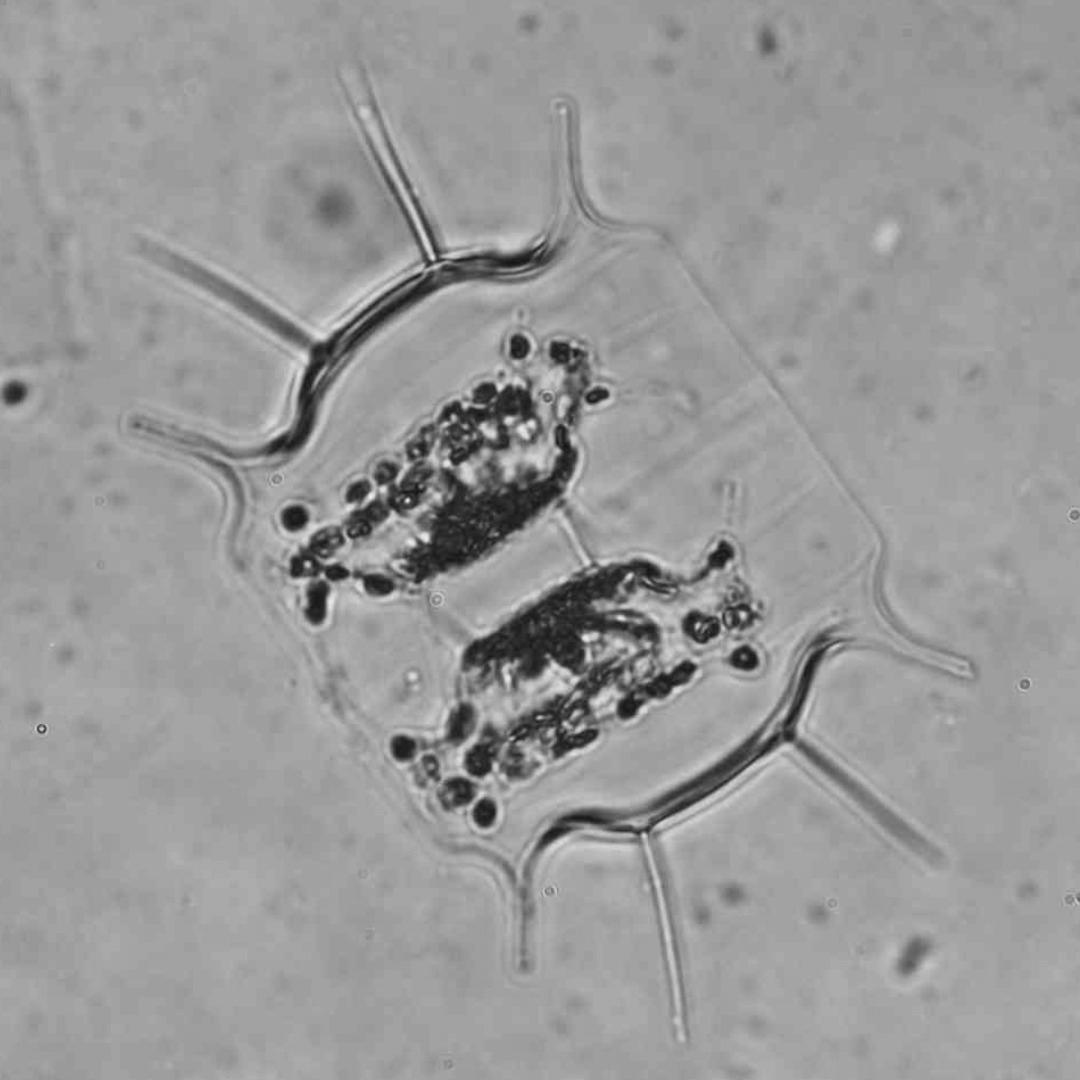odontella_mobiliensis: (123, 51, 979, 1035)
